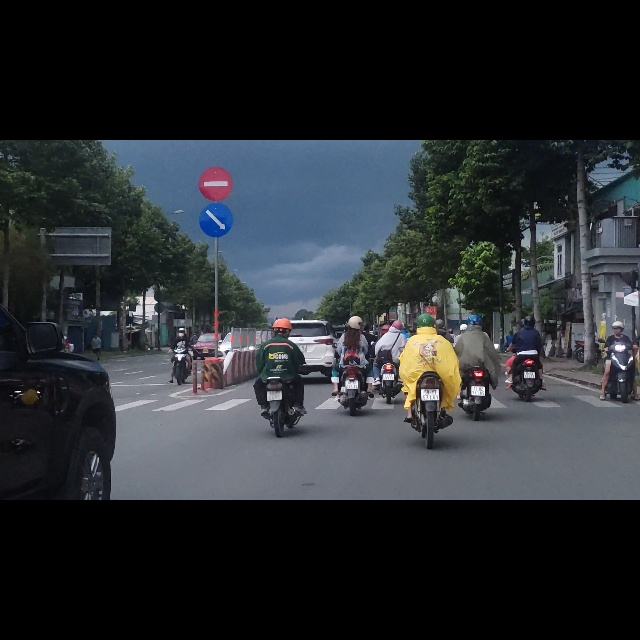bien_cam: (198, 46, 233, 108), (198, 111, 233, 172)
